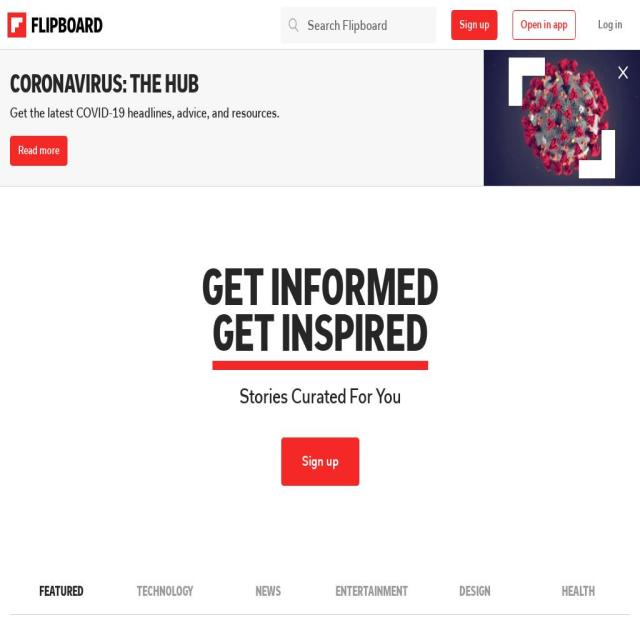button: (8, 0, 180, 50), (280, 7, 436, 43), (280, 437, 360, 486), (512, 10, 576, 40), (10, 136, 68, 166), (450, 10, 498, 40)
field: (280, 7, 436, 43)
heading: (212, 306, 428, 370), (201, 270, 439, 306), (10, 70, 310, 98)
image: (484, 50, 640, 186), (8, 12, 103, 38), (288, 7, 300, 43), (616, 63, 630, 82)
link: (598, 18, 622, 32)
text: (10, 383, 630, 411), (10, 104, 310, 123), (319, 569, 424, 614), (10, 569, 114, 614), (113, 569, 217, 614), (216, 569, 320, 614), (423, 569, 527, 614), (526, 569, 630, 614)
